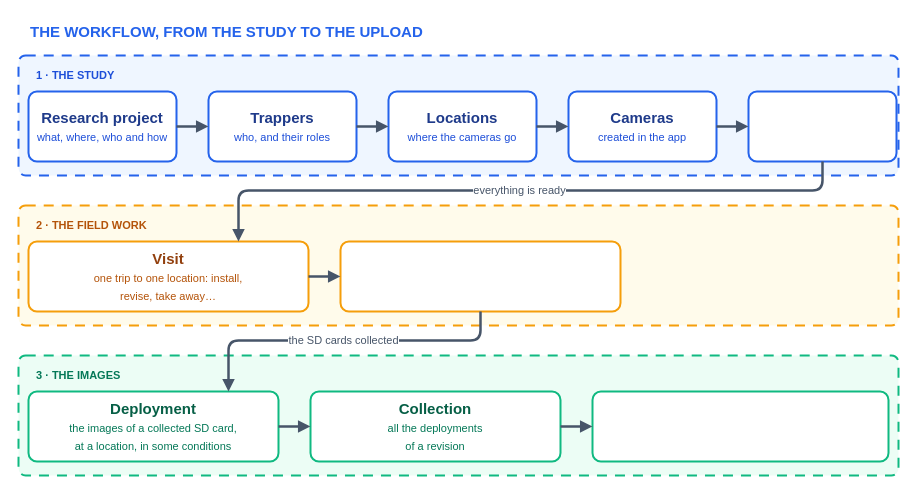
Image size: 916x493. Some labels were removed from this diagram. The shapes that lost their labels are listed below. From the top down, each one's centre as x and y in pixels, then its label:
At (x=822, y=126): "SD cards created in the app".
At (x=480, y=276): "Revision the visits to all the locations of a research project".
At (x=740, y=426): "Upload to Trapper, or to the portals of camera trapping to come".
